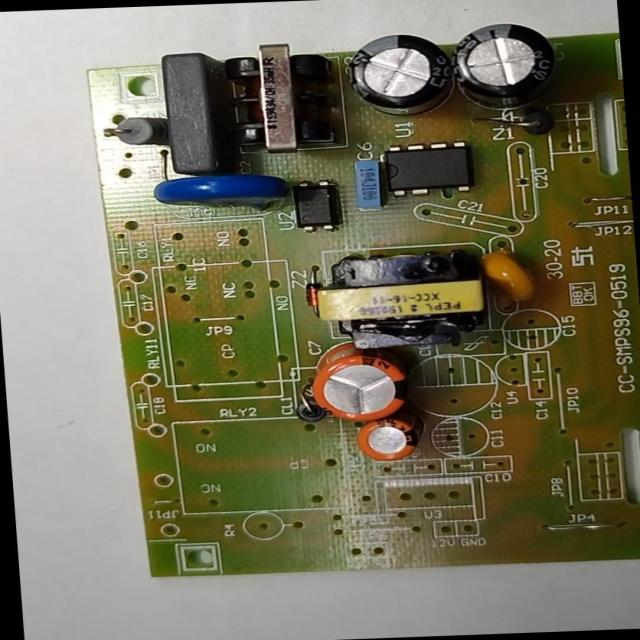Cap1: (299, 334, 425, 426)
Cap2: (349, 414, 430, 468)
Cap3: (343, 34, 459, 119)
Cap4: (442, 18, 567, 113)
MOSFET: (364, 137, 481, 202)
Mov: (142, 168, 294, 218)
Resistor: (105, 112, 177, 153)
Transformer: (312, 239, 500, 355), (213, 37, 347, 161)
